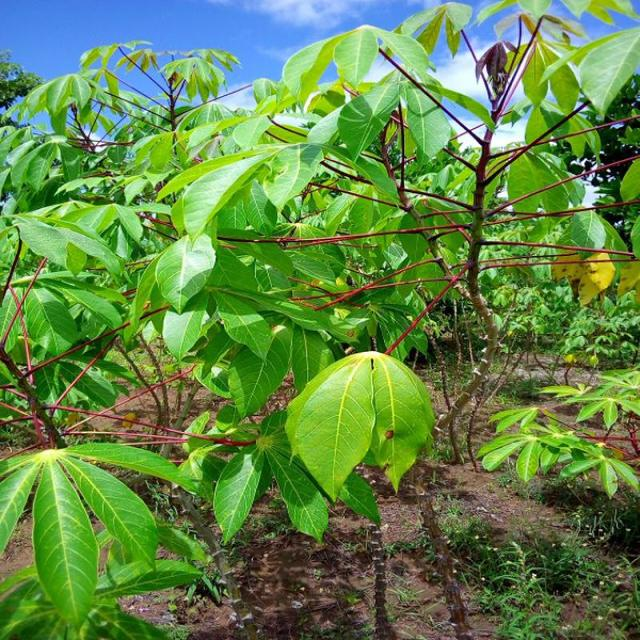cassava leaf: (284, 349, 434, 503)
